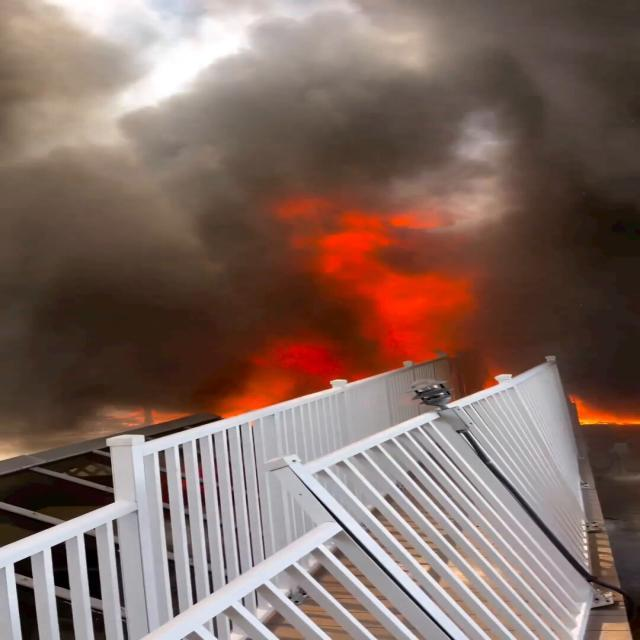Fire: (295, 209, 464, 386)
Smoke: (207, 11, 640, 207), (12, 163, 234, 392), (489, 217, 634, 380)
